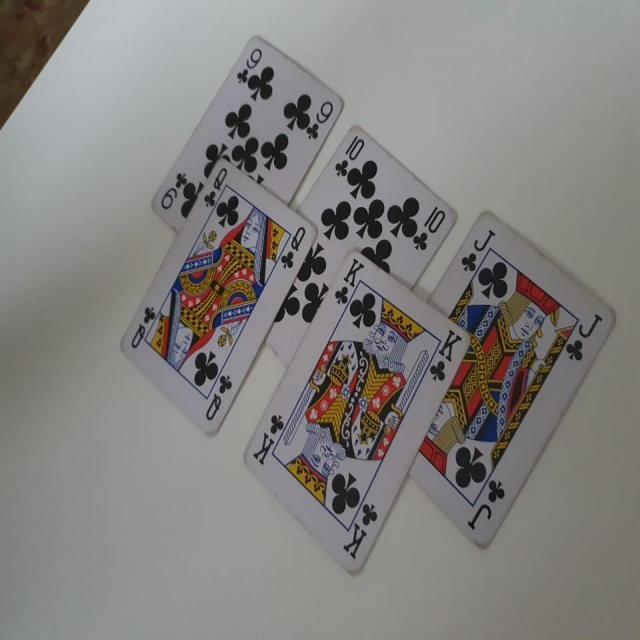10 of clubs: (260, 120, 457, 374)
9 of clubs: (150, 30, 347, 233)
jack of clubs: (406, 213, 616, 552)
king of clubs: (241, 250, 473, 576)
queen of clubs: (116, 156, 316, 440)
